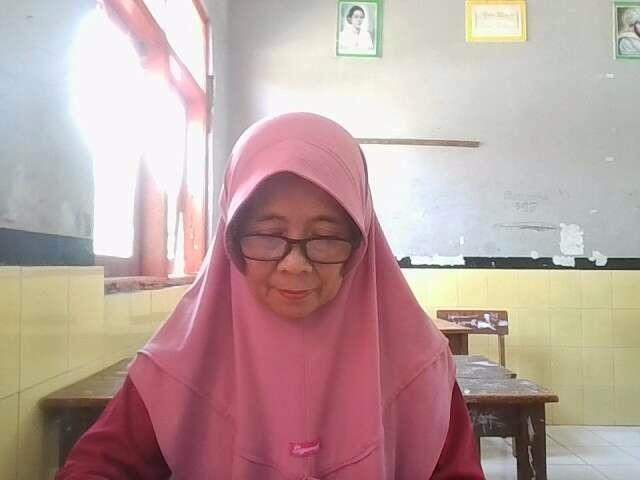good: (43, 102, 504, 480)
